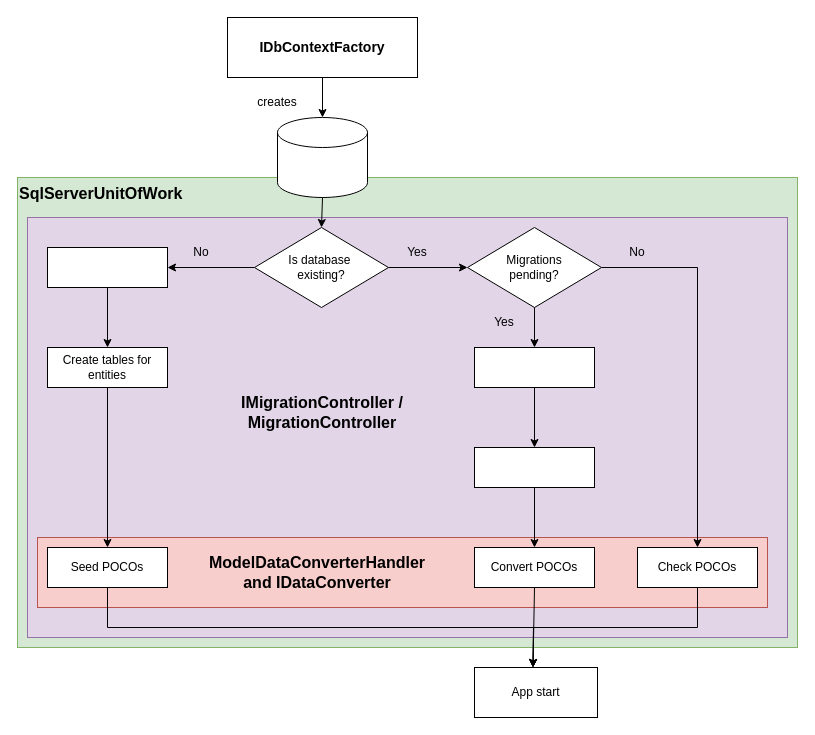
The diagram is 815 pixels wide and 735 high, and some of its shapes have lost their labels. Each missing label, with the box of its shape:
Backup database: (474, 346, 594, 388)
Create database: (46, 246, 168, 288)
DbContext: (276, 116, 368, 198)
Run migrations: (474, 446, 594, 488)
